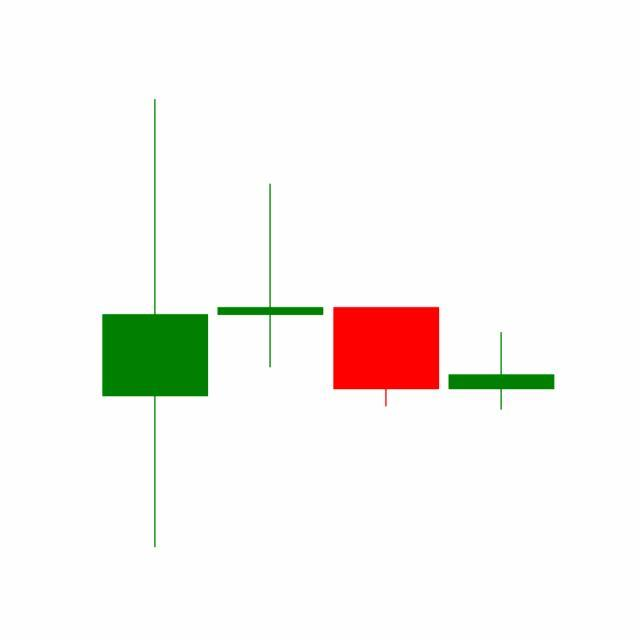Gravestone Doji: (444, 331, 560, 411)
